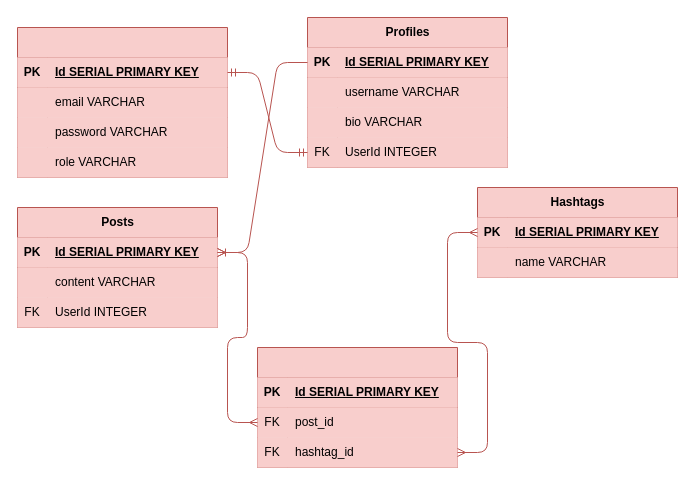
The diagram is 695 pixels wide and 485 high, and some of its shapes have lost their labels. Here are the shapes that lost their labels. From the top down, the box of each, then its label:
(16, 26, 228, 178): Users
(256, 346, 458, 468): Post_Hashtag
